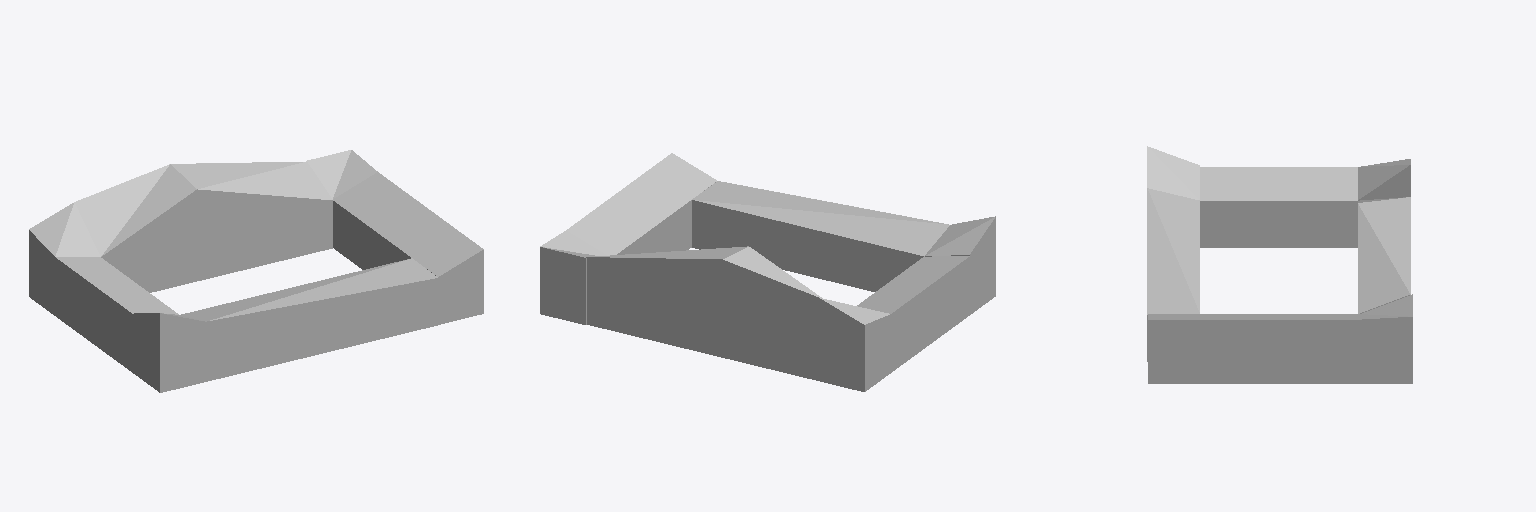
Rendered from course1.obj.
The picture shows the model from 3 angles: view 1: azimuth 30°, elevation 25°; view 2: azimuth 150°, elevation 25°; view 3: azimuth 270°, elevation 25°; orthographic projection.
Parts seen in each view (by area): view 1: Cube1; view 2: Cube1; view 3: Cube1.
Boxes of the visible parts, x1,y1,x2,y2 form: Cube1: [29, 150, 483, 392]; Cube1: [540, 153, 995, 391]; Cube1: [1147, 146, 1412, 383].
Size of the model in its own units: 14.17 by 4.11 by 10.05.